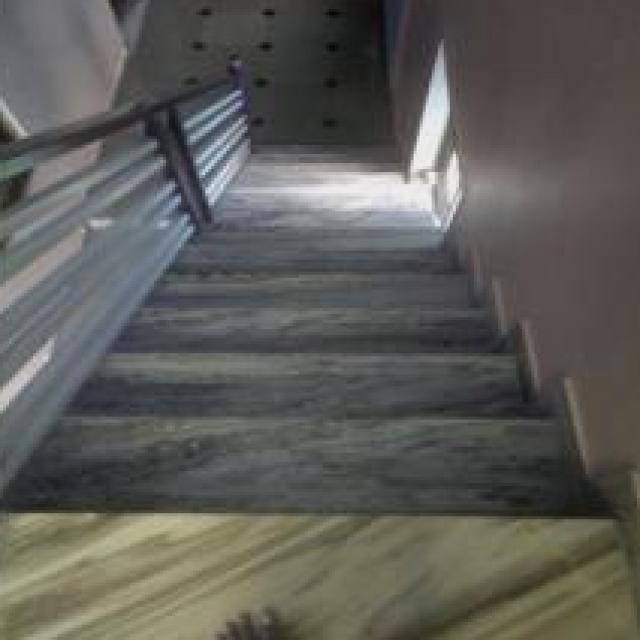downstair: (28, 318, 517, 559)
